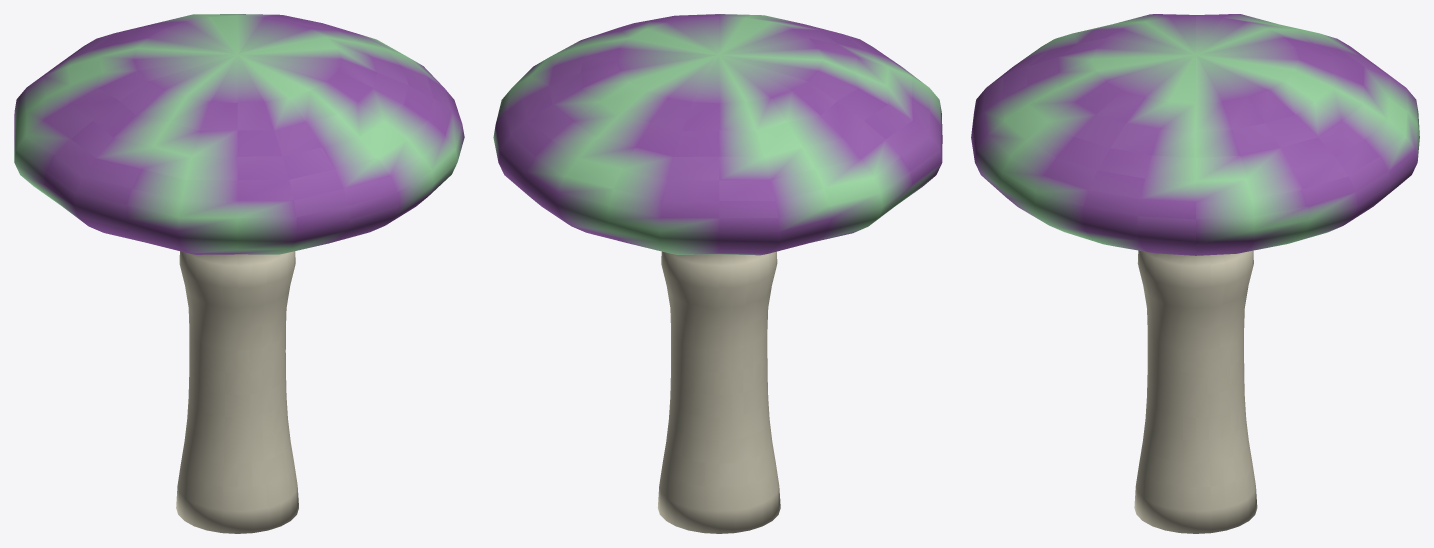
Rendered from Glow_Cap_Prop.glb.
The picture shows the model from 3 angles, left to right: view 1: azimuth 30°, elevation 25°; view 2: azimuth 150°, elevation 25°; view 3: azimuth 270°, elevation 25°; orthographic projection.
Parts seen in each view (by area): view 1: GlowCap; view 2: GlowCap; view 3: GlowCap.
Boxes of the visible parts, x1,y1,x2,y2 form: GlowCap: (14, 14, 464, 533); GlowCap: (493, 14, 942, 533); GlowCap: (971, 14, 1419, 533).
Size of the model in its own units: 1.68 by 1.89 by 1.68.
